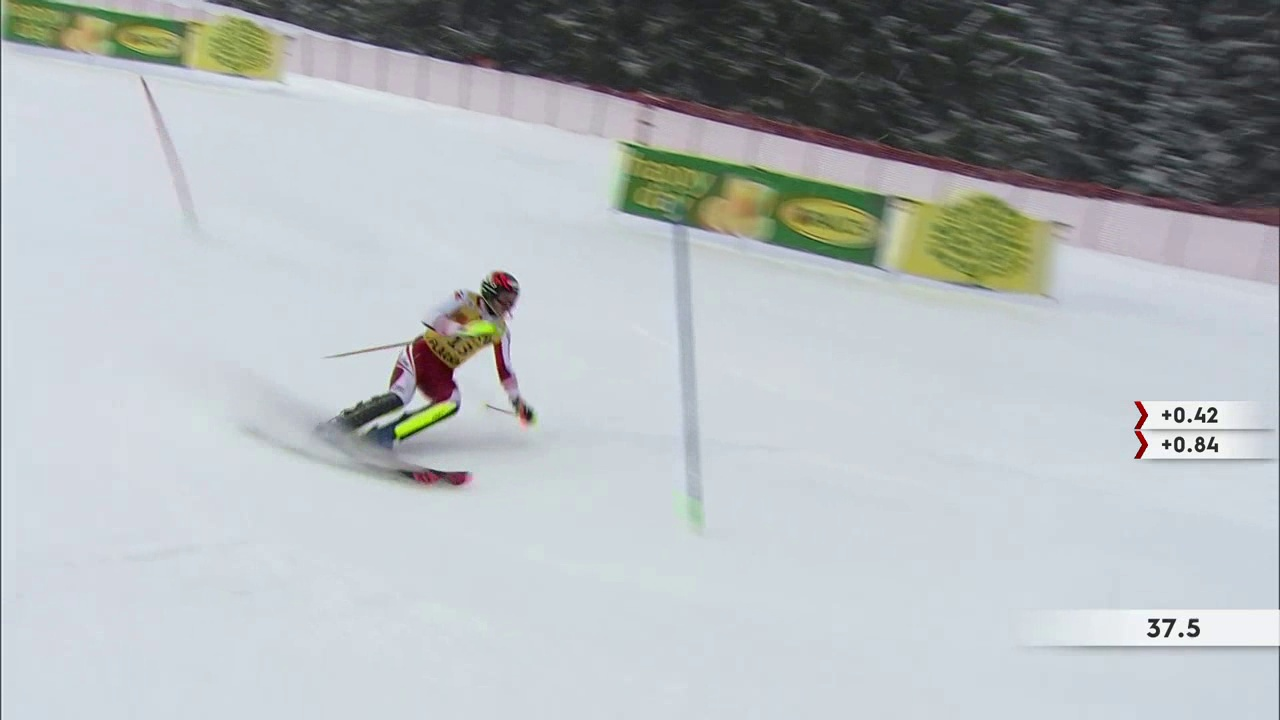rauch: (918, 199, 1039, 292), (778, 190, 883, 251), (630, 158, 723, 221), (99, 18, 194, 62), (203, 27, 280, 76)
